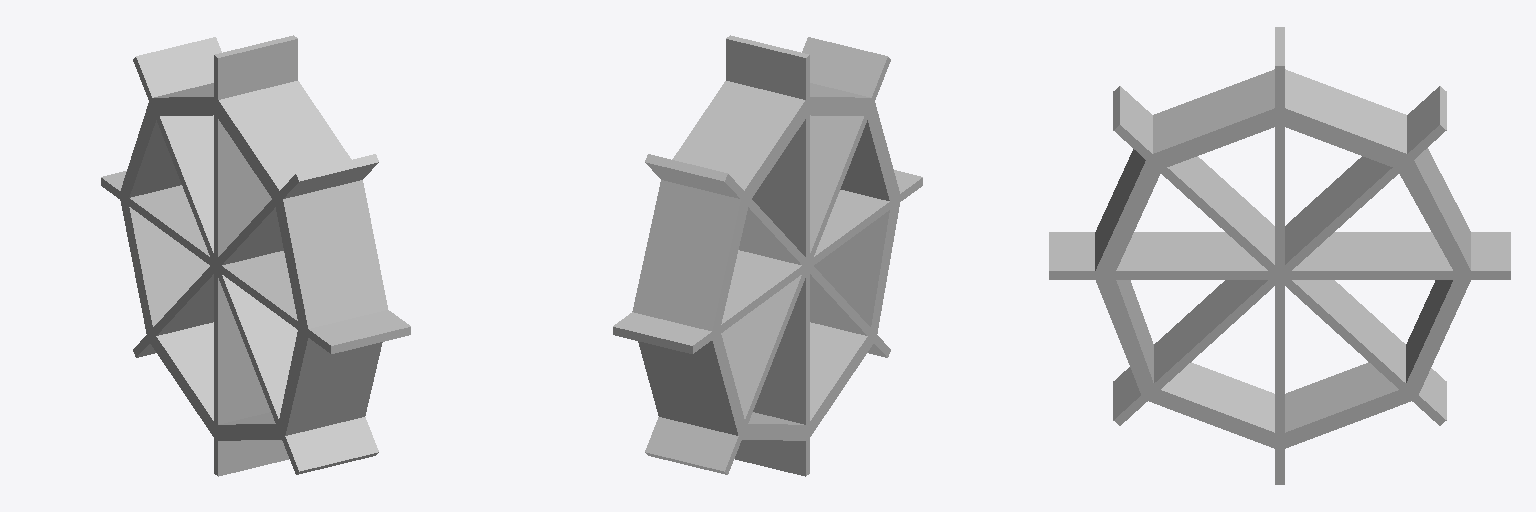
Rendered from water_wheel_item.obj.
The picture shows the model from 3 angles: view 1: azimuth 30°, elevation 25°; view 2: azimuth 150°, elevation 25°; view 3: azimuth 270°, elevation 25°; orthographic projection.
Visible parts, largest first — view 1: Cube_Cube.001; view 2: Cube_Cube.001; view 3: Cube_Cube.001.
Boxes of the visible parts, <box> form: Cube_Cube.001: <box>101,35,410,476</box>; Cube_Cube.001: <box>613,35,922,476</box>; Cube_Cube.001: <box>1049,27,1510,484</box>.
Size of the model in its own units: 0.2 by 1 by 1.